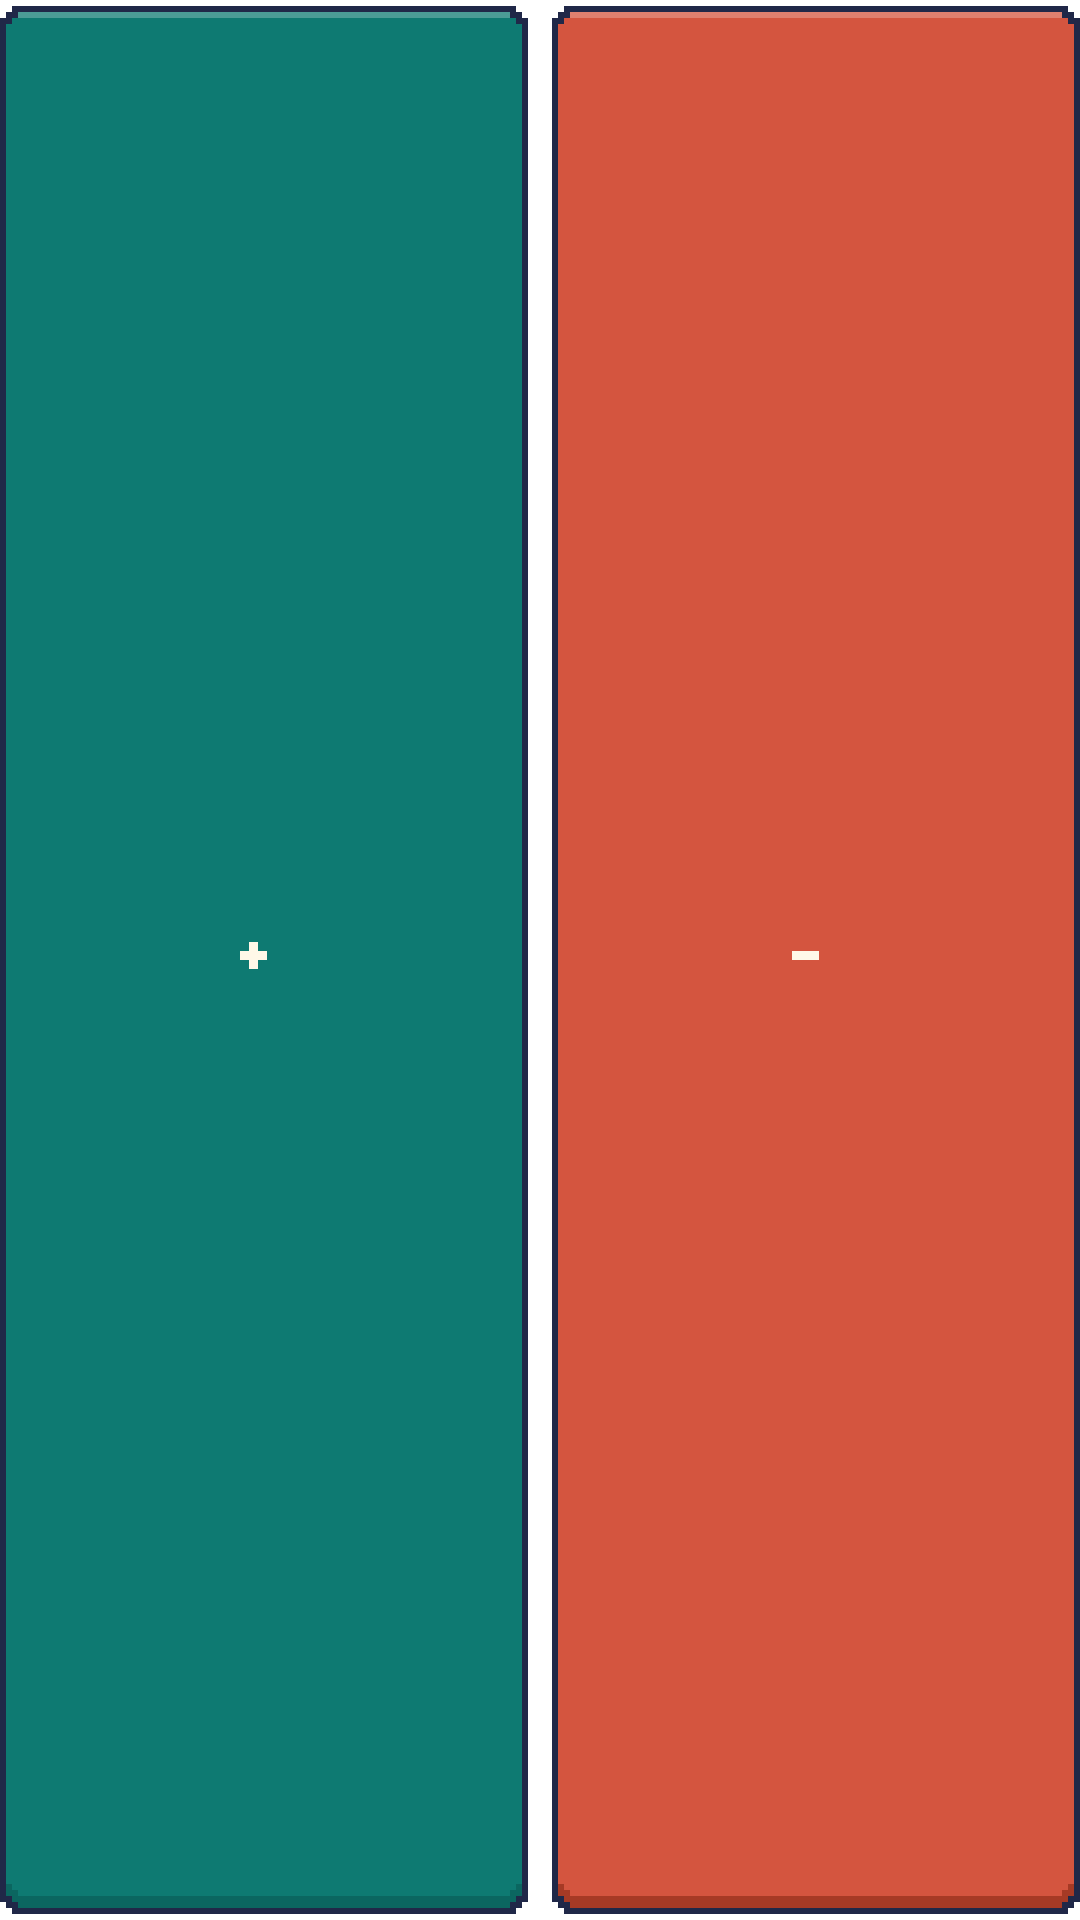

Locate icon controls on the screen. Image size 1080*1920, boxes as {"left": x1, "top": y1, "right": x2, "bottom": y2}.
quick entry glyph plus: {"left": 240, "top": 942, "right": 267, "bottom": 969}
